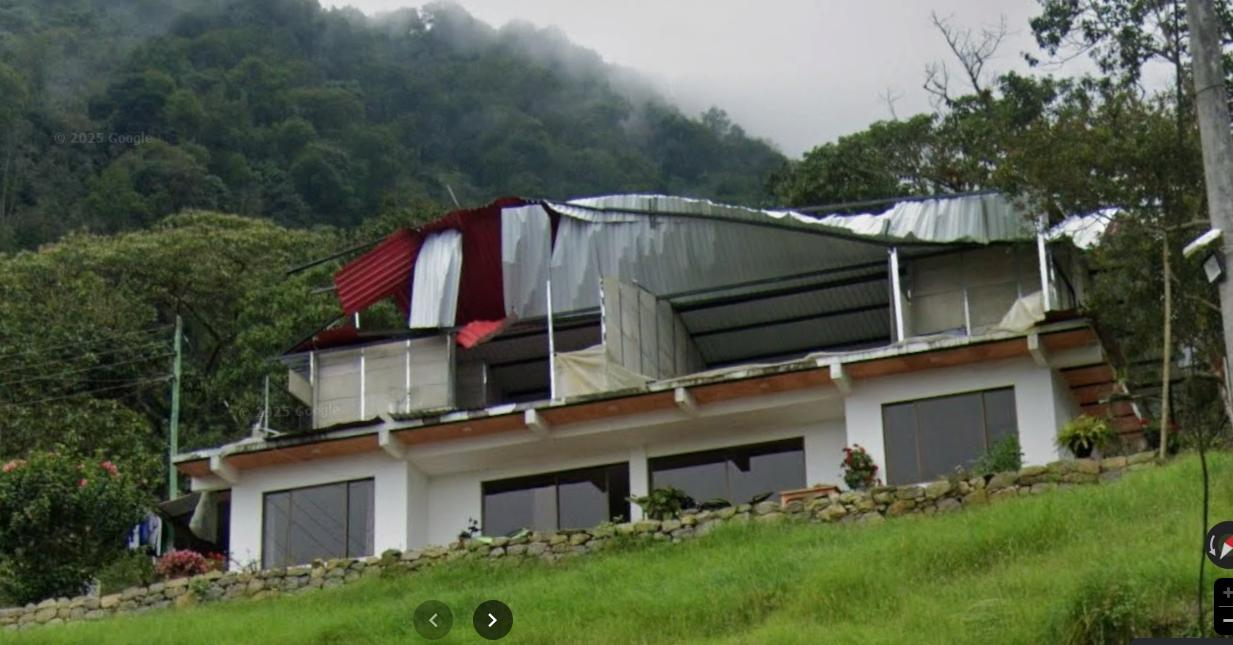casa: (176, 193, 1152, 567)
poste: (169, 314, 182, 463), (168, 465, 177, 496)
